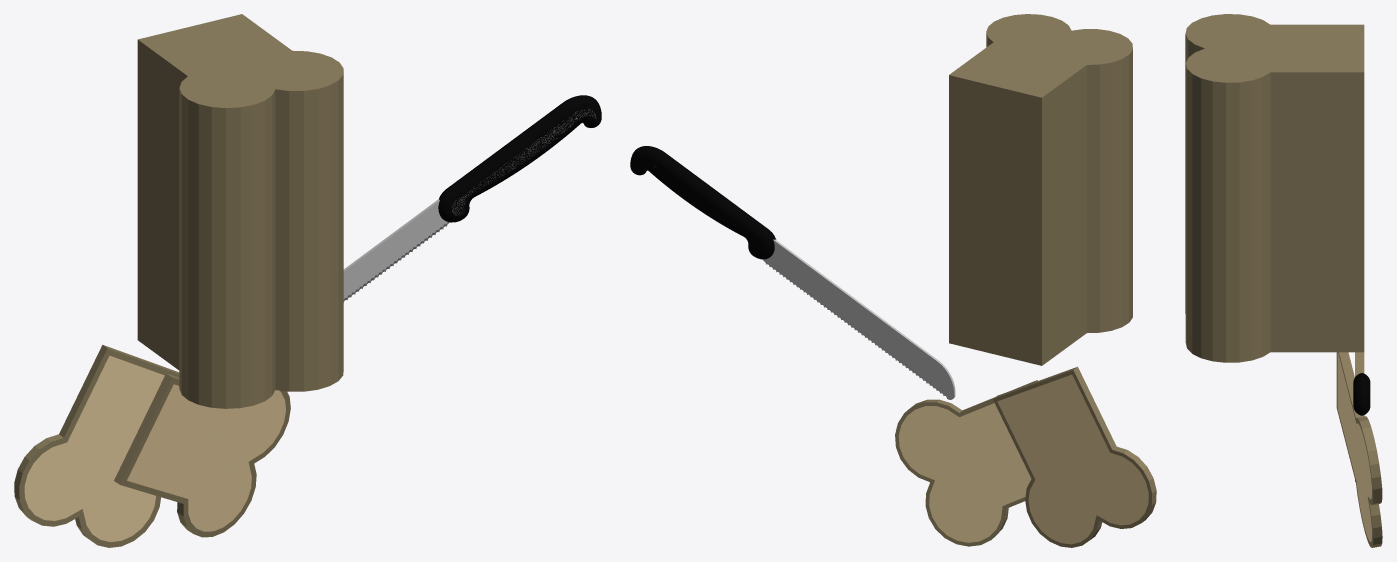
3 views of the same model, side by side, from view 1: azimuth 30°, elevation 25°; view 2: azimuth 150°, elevation 25°; view 3: azimuth 270°, elevation 25° (orthographic). The views are drawn at different scales.
Parts seen in each view (by area): view 1: cicipopo bread; view 2: cicipopo bread; view 3: cicipopo bread.
Boxes of the visible parts, x1,y1,x2,y2 form: cicipopo bread: (14, 14, 601, 547); cicipopo bread: (630, 14, 1156, 547); cicipopo bread: (1185, 14, 1382, 547).
Size of the model in its own units: 16.82 by 14.2 by 5.26.
